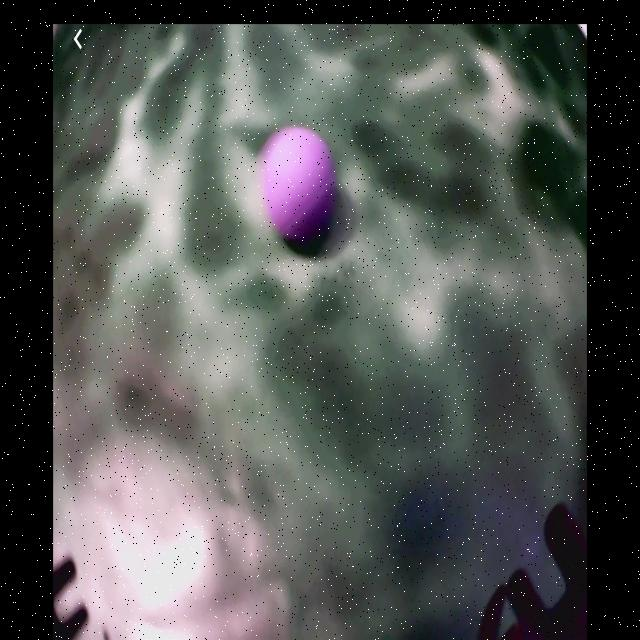ball: (261, 130, 336, 246)
